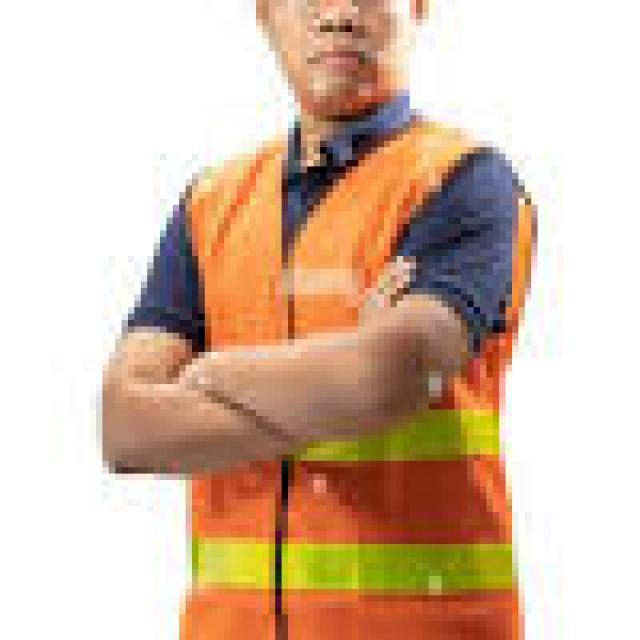Reflective-Jacket: (166, 116, 557, 518)
